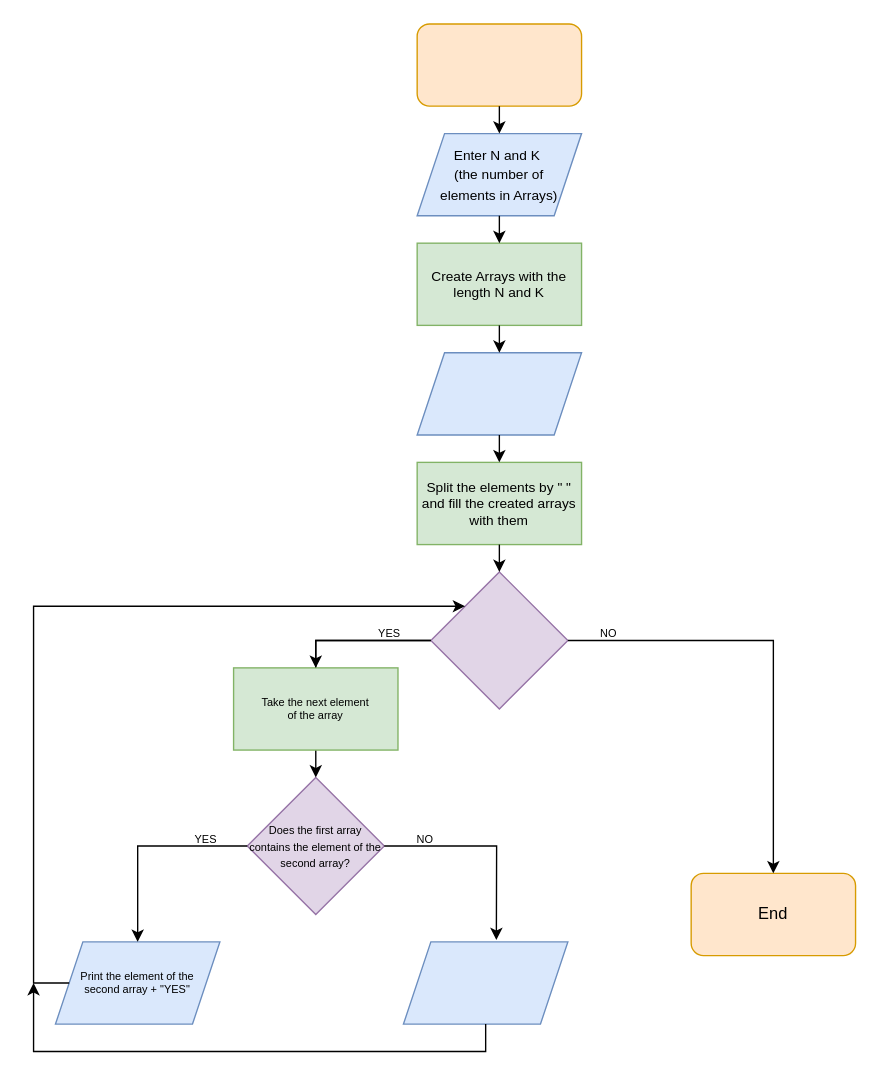
Image size: 880x1086. Some labels were removed from this diagram. The centre of each missing label's shape, as x and y in pixels:
Does the array contains the elements which were not checked yet?: pixel 498 640
Enter the elements of the first and second arrays: pixel 499 393
Print the element of the second array + "NO": pixel 485 982
Start: pixel 499 64
